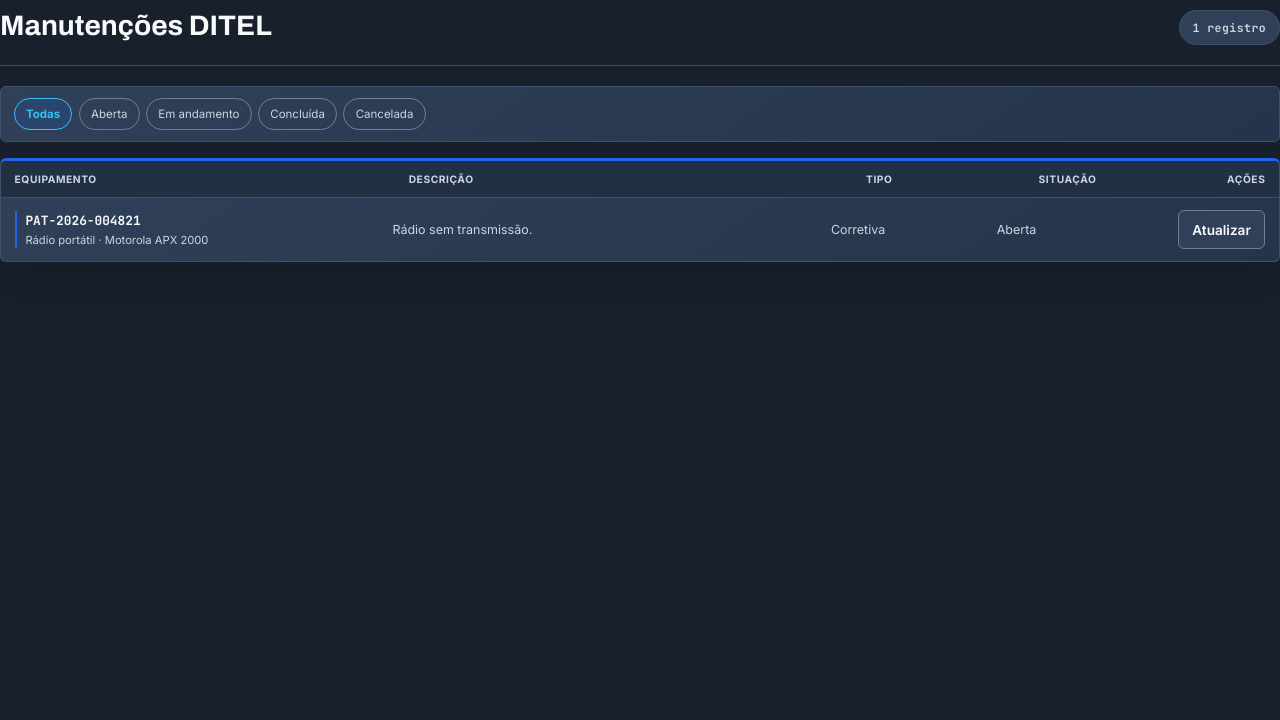
Test: shows conflict recovery when the maintenance was updated elsewhere (409)
Click the button "Atualizar" at (1222, 230), box x1=1178 y1=210 x2=1265 y2=249
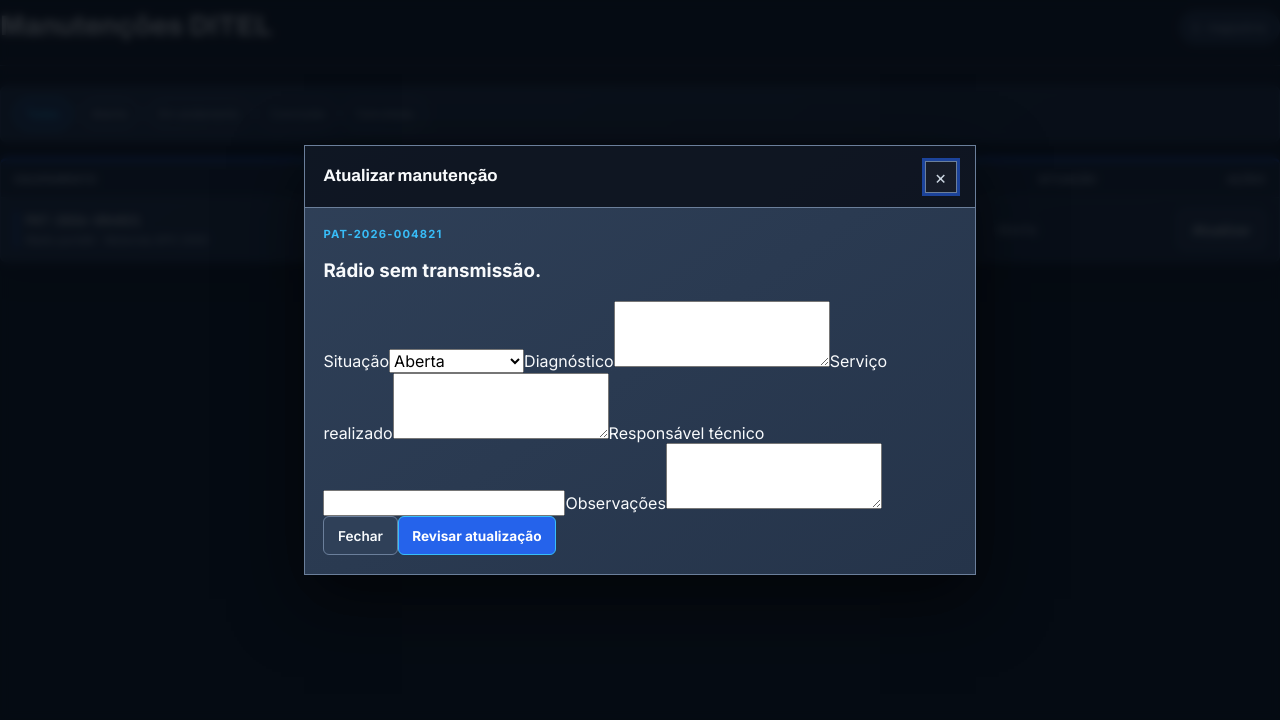
Select "Concluída" in the dropdown labelled "Situação" at (457, 361), box x1=389 y1=349 x2=524 y2=373
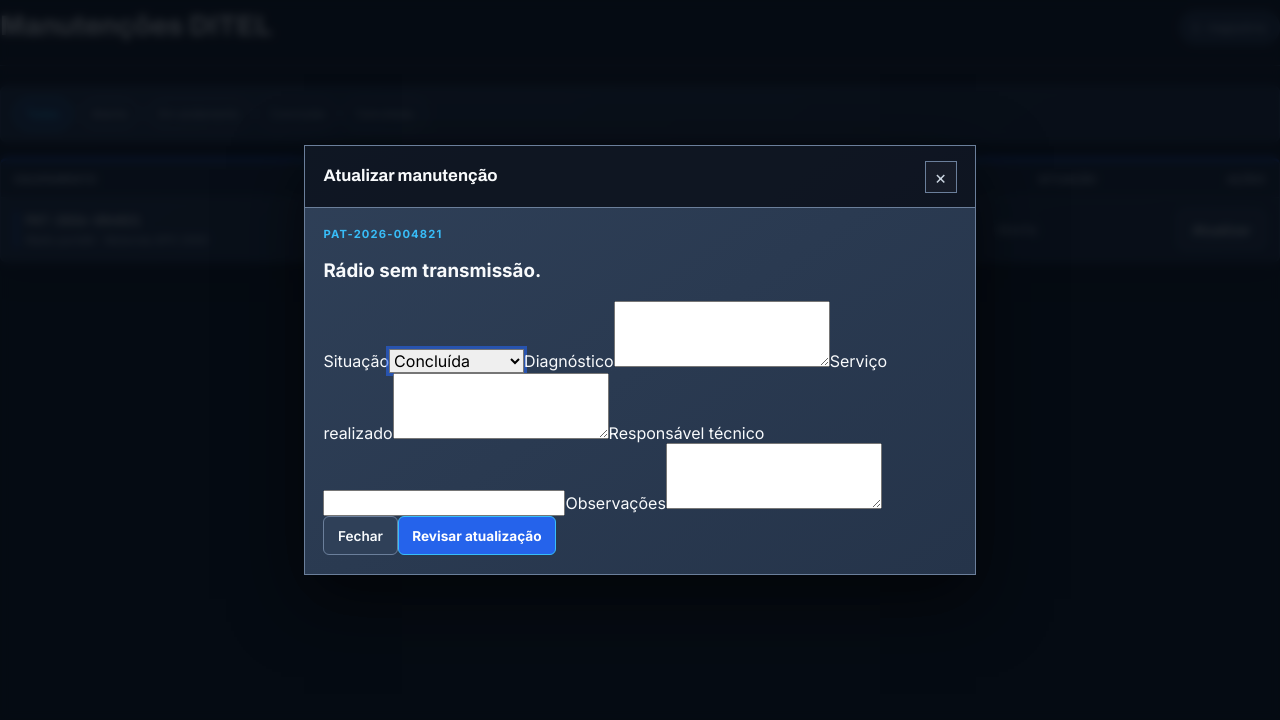
Click the button "Revisar atualização" at (477, 536), box x1=398 y1=516 x2=556 y2=555
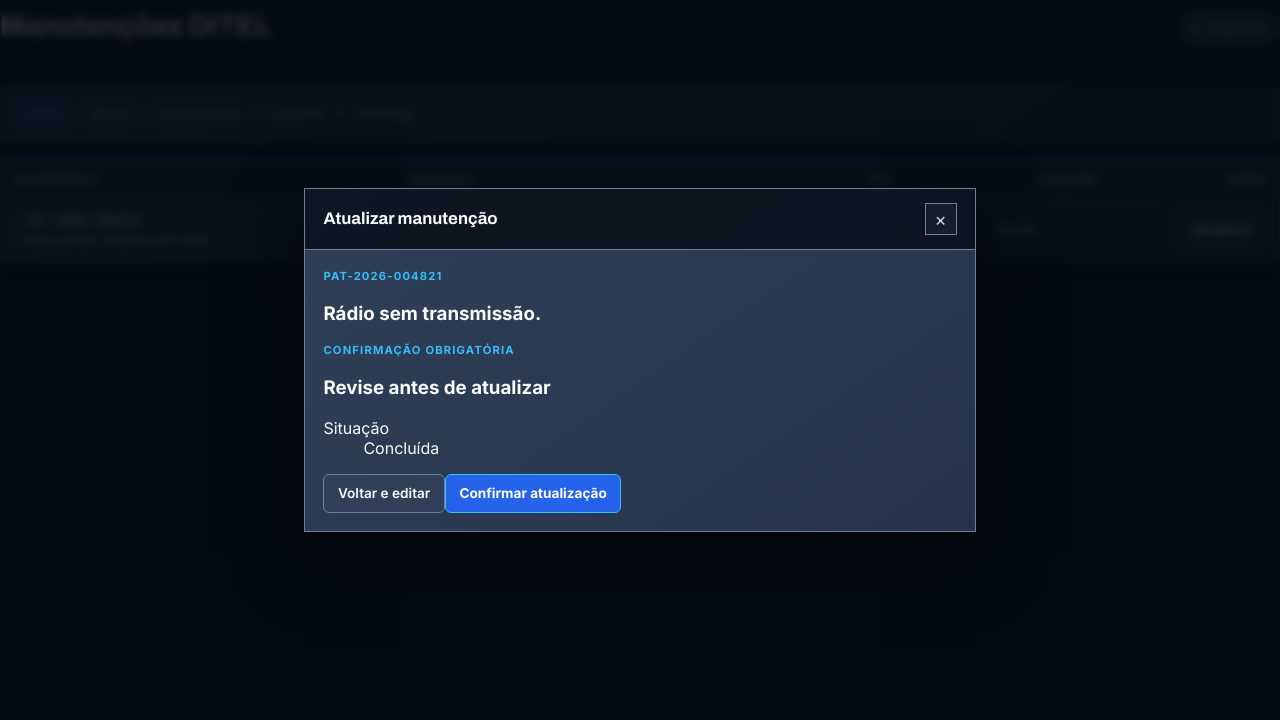
Click the button "Confirmar atualização" at (533, 493), box x1=445 y1=474 x2=621 y2=513
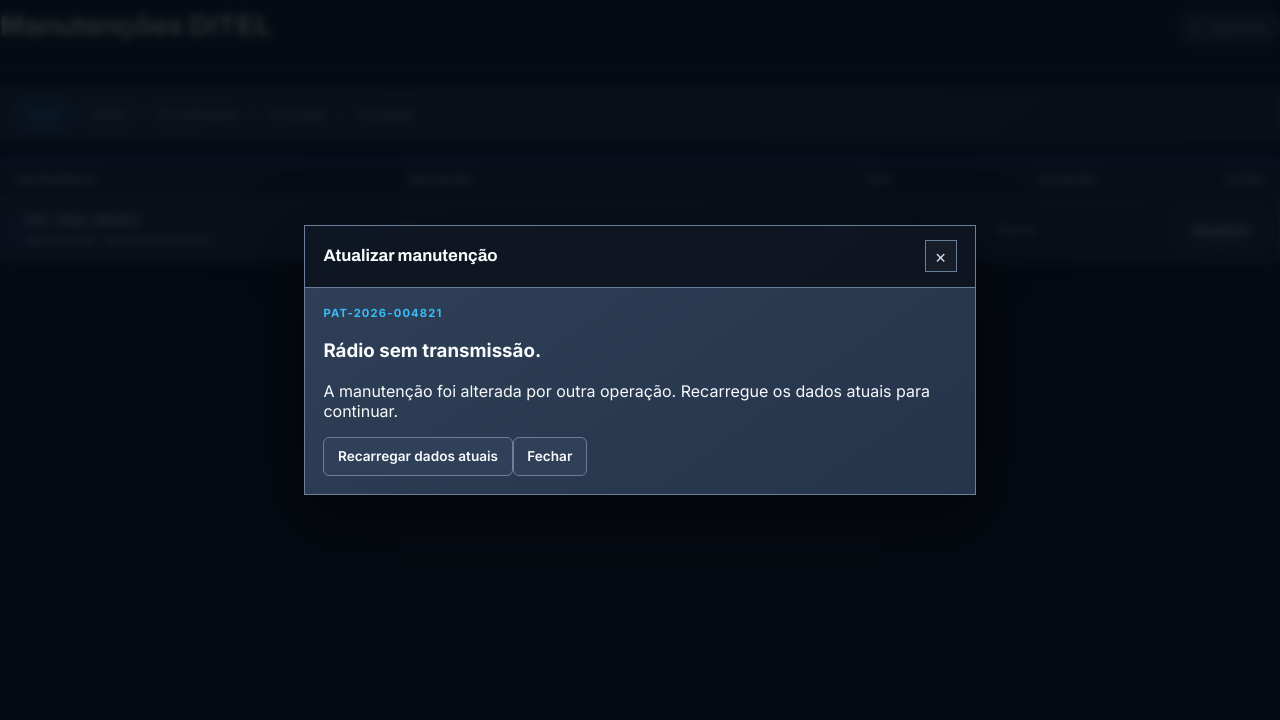
Check: the message shows "alterada por outra operação", box x1=323 y1=380 x2=930 y2=420
Check: the button "Recarregar dados atuais" is shown, box x1=323 y1=436 x2=513 y2=476
